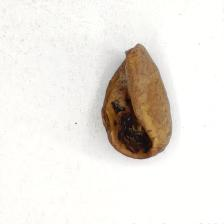NG: (102, 41, 157, 160)
